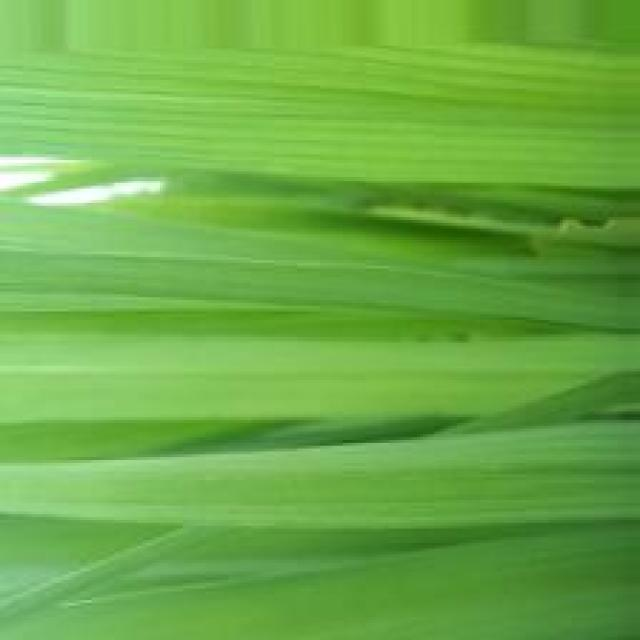HealthyLeaf: (5, 51, 637, 182), (167, 423, 636, 527), (29, 210, 410, 305), (351, 530, 636, 636)
